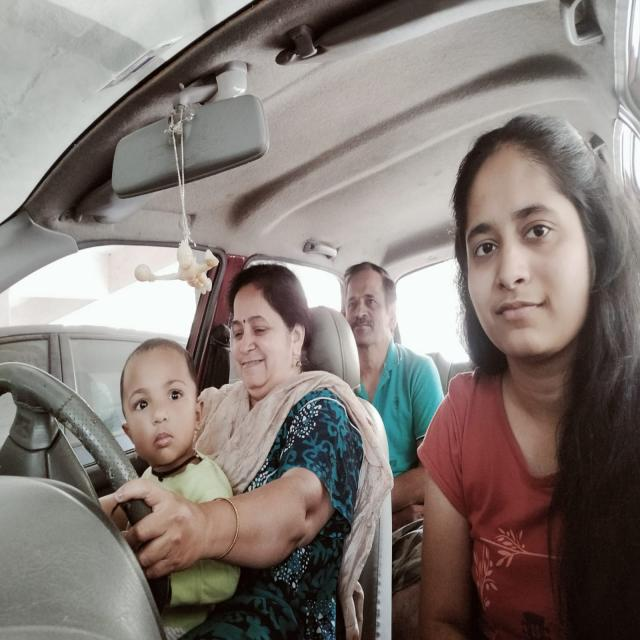child: (102, 330, 211, 482)
person: (437, 105, 640, 424), (215, 255, 318, 411), (330, 251, 409, 369)
